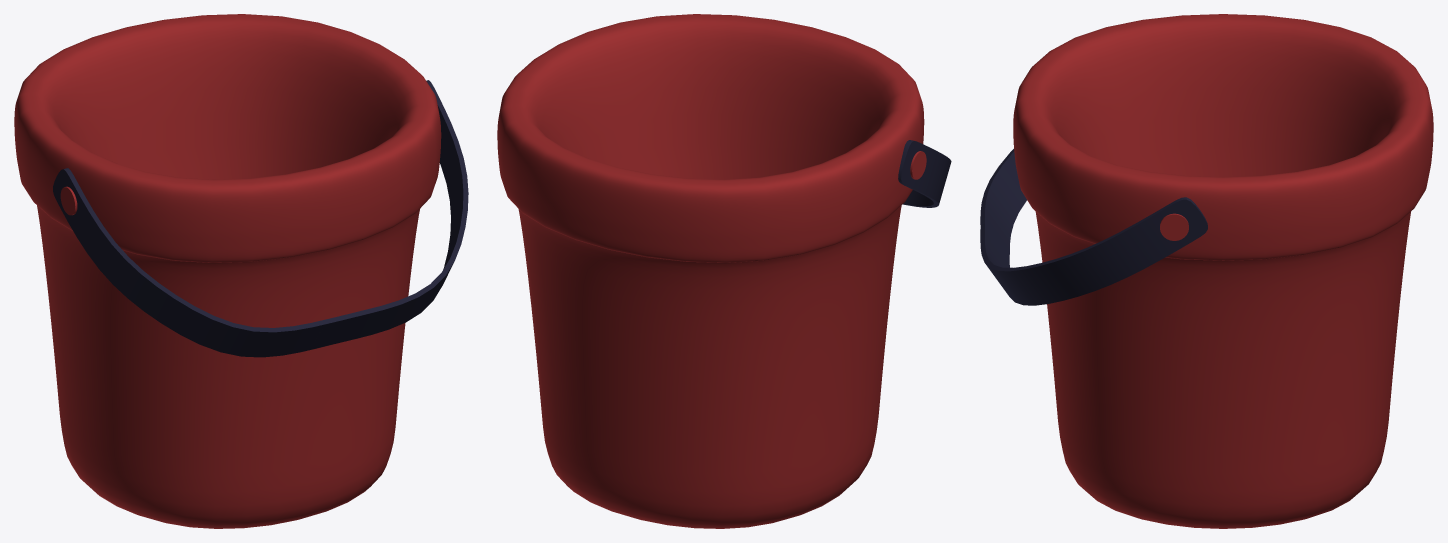
File: ведро.fbx
The picture shows the model from 3 angles, left to right: view 1: azimuth 30°, elevation 25°; view 2: azimuth 150°, elevation 25°; view 3: azimuth 270°, elevation 25°; orthographic projection.
Parts seen in each view (by area): view 1: Cube.006; view 2: Cube.006; view 3: Cube.006.
Boxes of the visible parts, x1=… form: Cube.006: x1=14, y1=14, x2=468, y2=528; Cube.006: x1=497, y1=14, x2=951, y2=528; Cube.006: x1=980, y1=14, x2=1433, y2=528.
Size of the model in its own units: 48.62 by 47.93 by 51.5.
